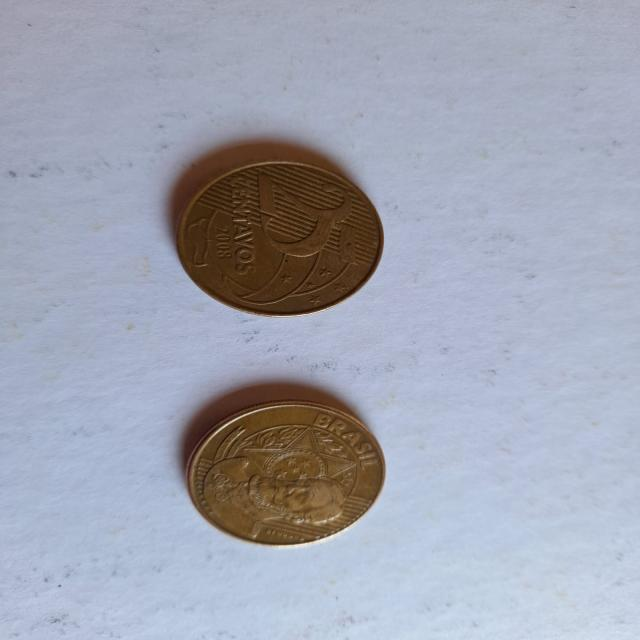25 cents: (171, 396, 397, 552), (168, 162, 390, 316)
